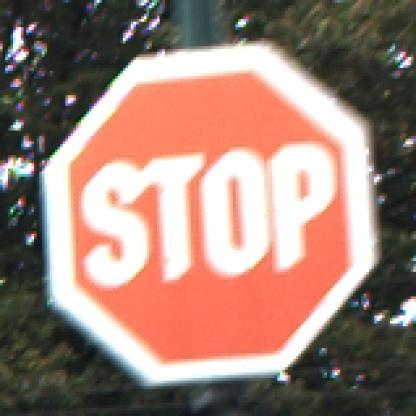stop: (35, 34, 385, 378)
